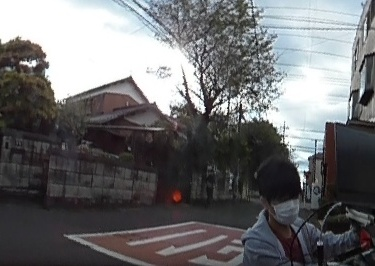person: (238, 159, 341, 266), (203, 169, 216, 201)
